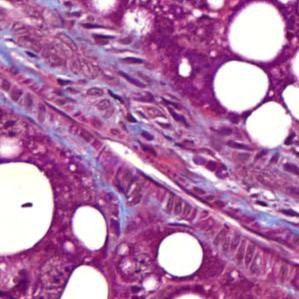steatosis: (154, 226, 206, 283), (215, 61, 269, 114), (68, 203, 114, 254)
